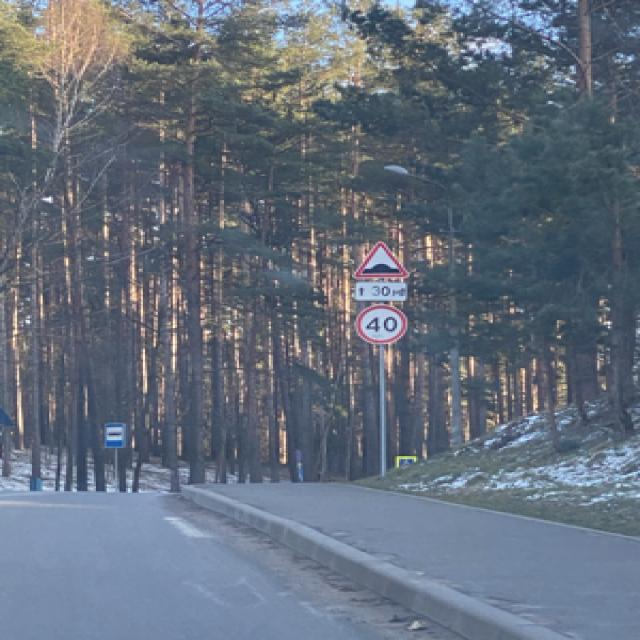speedlimit: (352, 304, 403, 342)
